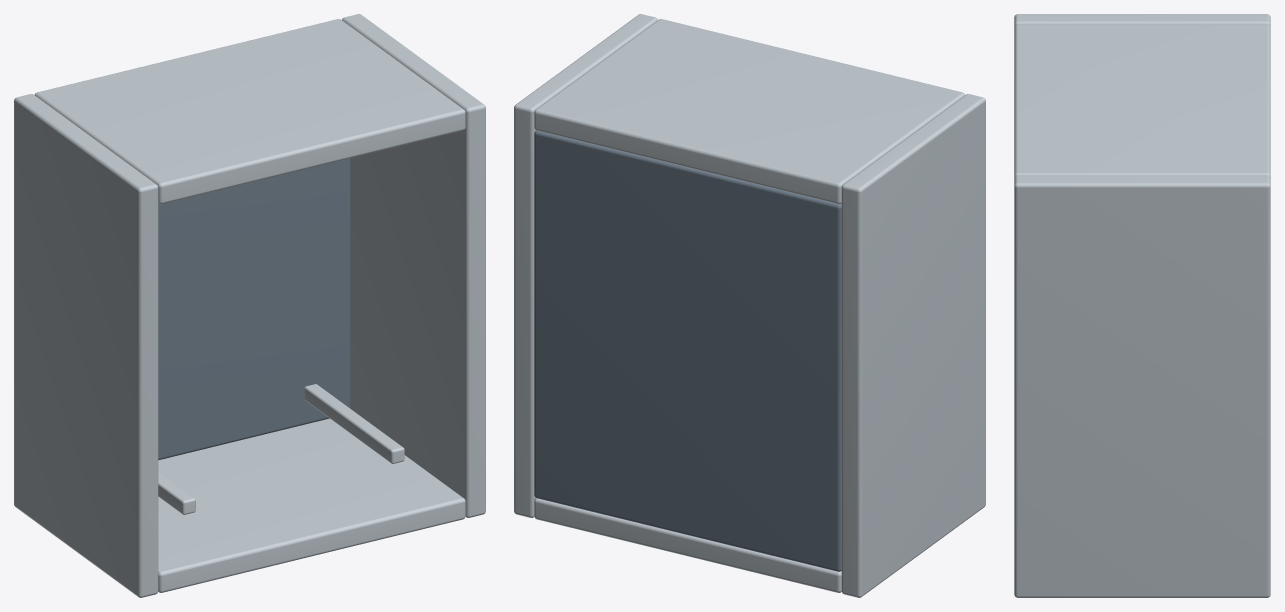
Rendered from SLOT2.glb.
3 renders of one model, left to right at view 1: azimuth 30°, elevation 25°; view 2: azimuth 150°, elevation 25°; view 3: azimuth 270°, elevation 25°, orthographic.
Parts seen in each view (by area): view 1: SLOT2/0000_panel, SLOT2/0004_panel, SLOT2/0001_panel, SLOT2/0003_panel, SLOT2/0002_panel, SLOT2/0006_guide, SLOT2/0005_guide; view 2: SLOT2/0004_panel, SLOT2/0000_panel, SLOT2/0003_panel, SLOT2/0001_panel, SLOT2/0002_panel; view 3: SLOT2/0001_panel, SLOT2/0003_panel, SLOT2/0000_panel.
Part boxes in pixels (left/top/right/bottom): SLOT2/0000_panel: left=14, top=94, right=158, bottom=597; SLOT2/0004_panel: left=158, top=158, right=350, bottom=460; SLOT2/0001_panel: left=342, top=14, right=485, bottom=517; SLOT2/0003_panel: left=34, top=19, right=465, bottom=204; SLOT2/0002_panel: left=158, top=418, right=465, bottom=592; SLOT2/0006_guide: left=304, top=384, right=404, bottom=463; SLOT2/0005_guide: left=158, top=472, right=195, bottom=514; SLOT2/0004_panel: left=534, top=130, right=841, bottom=571; SLOT2/0000_panel: left=841, top=94, right=985, bottom=597; SLOT2/0003_panel: left=534, top=19, right=965, bottom=204; SLOT2/0001_panel: left=514, top=14, right=657, bottom=517; SLOT2/0002_panel: left=534, top=498, right=841, bottom=592; SLOT2/0001_panel: left=1014, top=175, right=1270, bottom=597; SLOT2/0003_panel: left=1014, top=24, right=1270, bottom=177; SLOT2/0000_panel: left=1014, top=14, right=1270, bottom=26.
Size of the model in its own units: 0.103 by 0.116 by 0.065.
